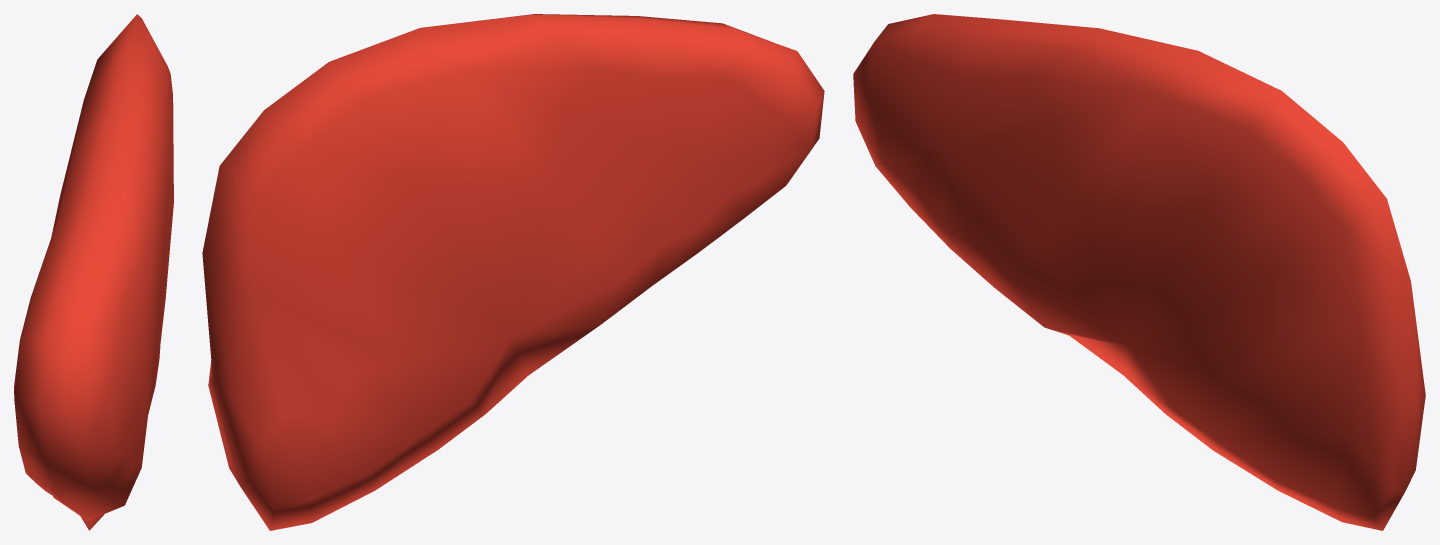
Rendered from Flexor_digiti_minimi-Insertion.r_Generated_Mesh_From_X3D.573.glb.
3 renders of one model, left to right at view 1: azimuth 30°, elevation 25°; view 2: azimuth 150°, elevation 25°; view 3: azimuth 270°, elevation 25°, orthographic. The views are drawn at different scales.
Visible parts, largest first — view 1: Flexor_digiti_minimi-Insertion.r_Generated_Mesh_From_X3D.573; view 2: Flexor_digiti_minimi-Insertion.r_Generated_Mesh_From_X3D.573; view 3: Flexor_digiti_minimi-Insertion.r_Generated_Mesh_From_X3D.573.
Part boxes in pixels (left/top/right/bottom): Flexor_digiti_minimi-Insertion.r_Generated_Mesh_From_X3D.573: left=14, top=14, right=173, bottom=530; Flexor_digiti_minimi-Insertion.r_Generated_Mesh_From_X3D.573: left=202, top=14, right=824, bottom=530; Flexor_digiti_minimi-Insertion.r_Generated_Mesh_From_X3D.573: left=853, top=14, right=1425, bottom=530.
Bounding box in the file's own units: 0.00237 × 0.00281 × 0.00322.
